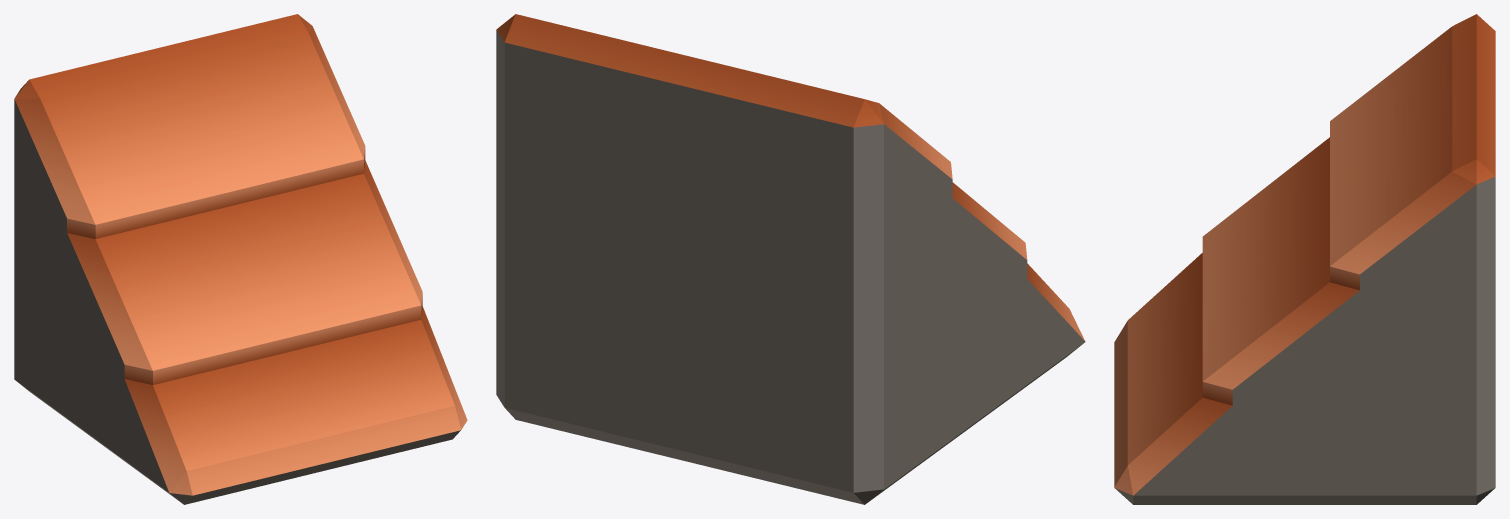
Rendered from m_kub_roofClay.FBX.
3 views of the same model, side by side, from view 1: azimuth 30°, elevation 25°; view 2: azimuth 150°, elevation 25°; view 3: azimuth 270°, elevation 25° (orthographic). The views are drawn at different scales.
Parts seen in each view (by area): view 1: m_kub_roofClay; view 2: m_kub_roofClay; view 3: m_kub_roofClay.
Part boxes in pixels (left/top/right/bottom): m_kub_roofClay: left=14, top=14, right=467, bottom=504; m_kub_roofClay: left=496, top=14, right=1085, bottom=504; m_kub_roofClay: left=1114, top=14, right=1495, bottom=504.
Bounding box in the file's own units: 2 × 2 × 2.
